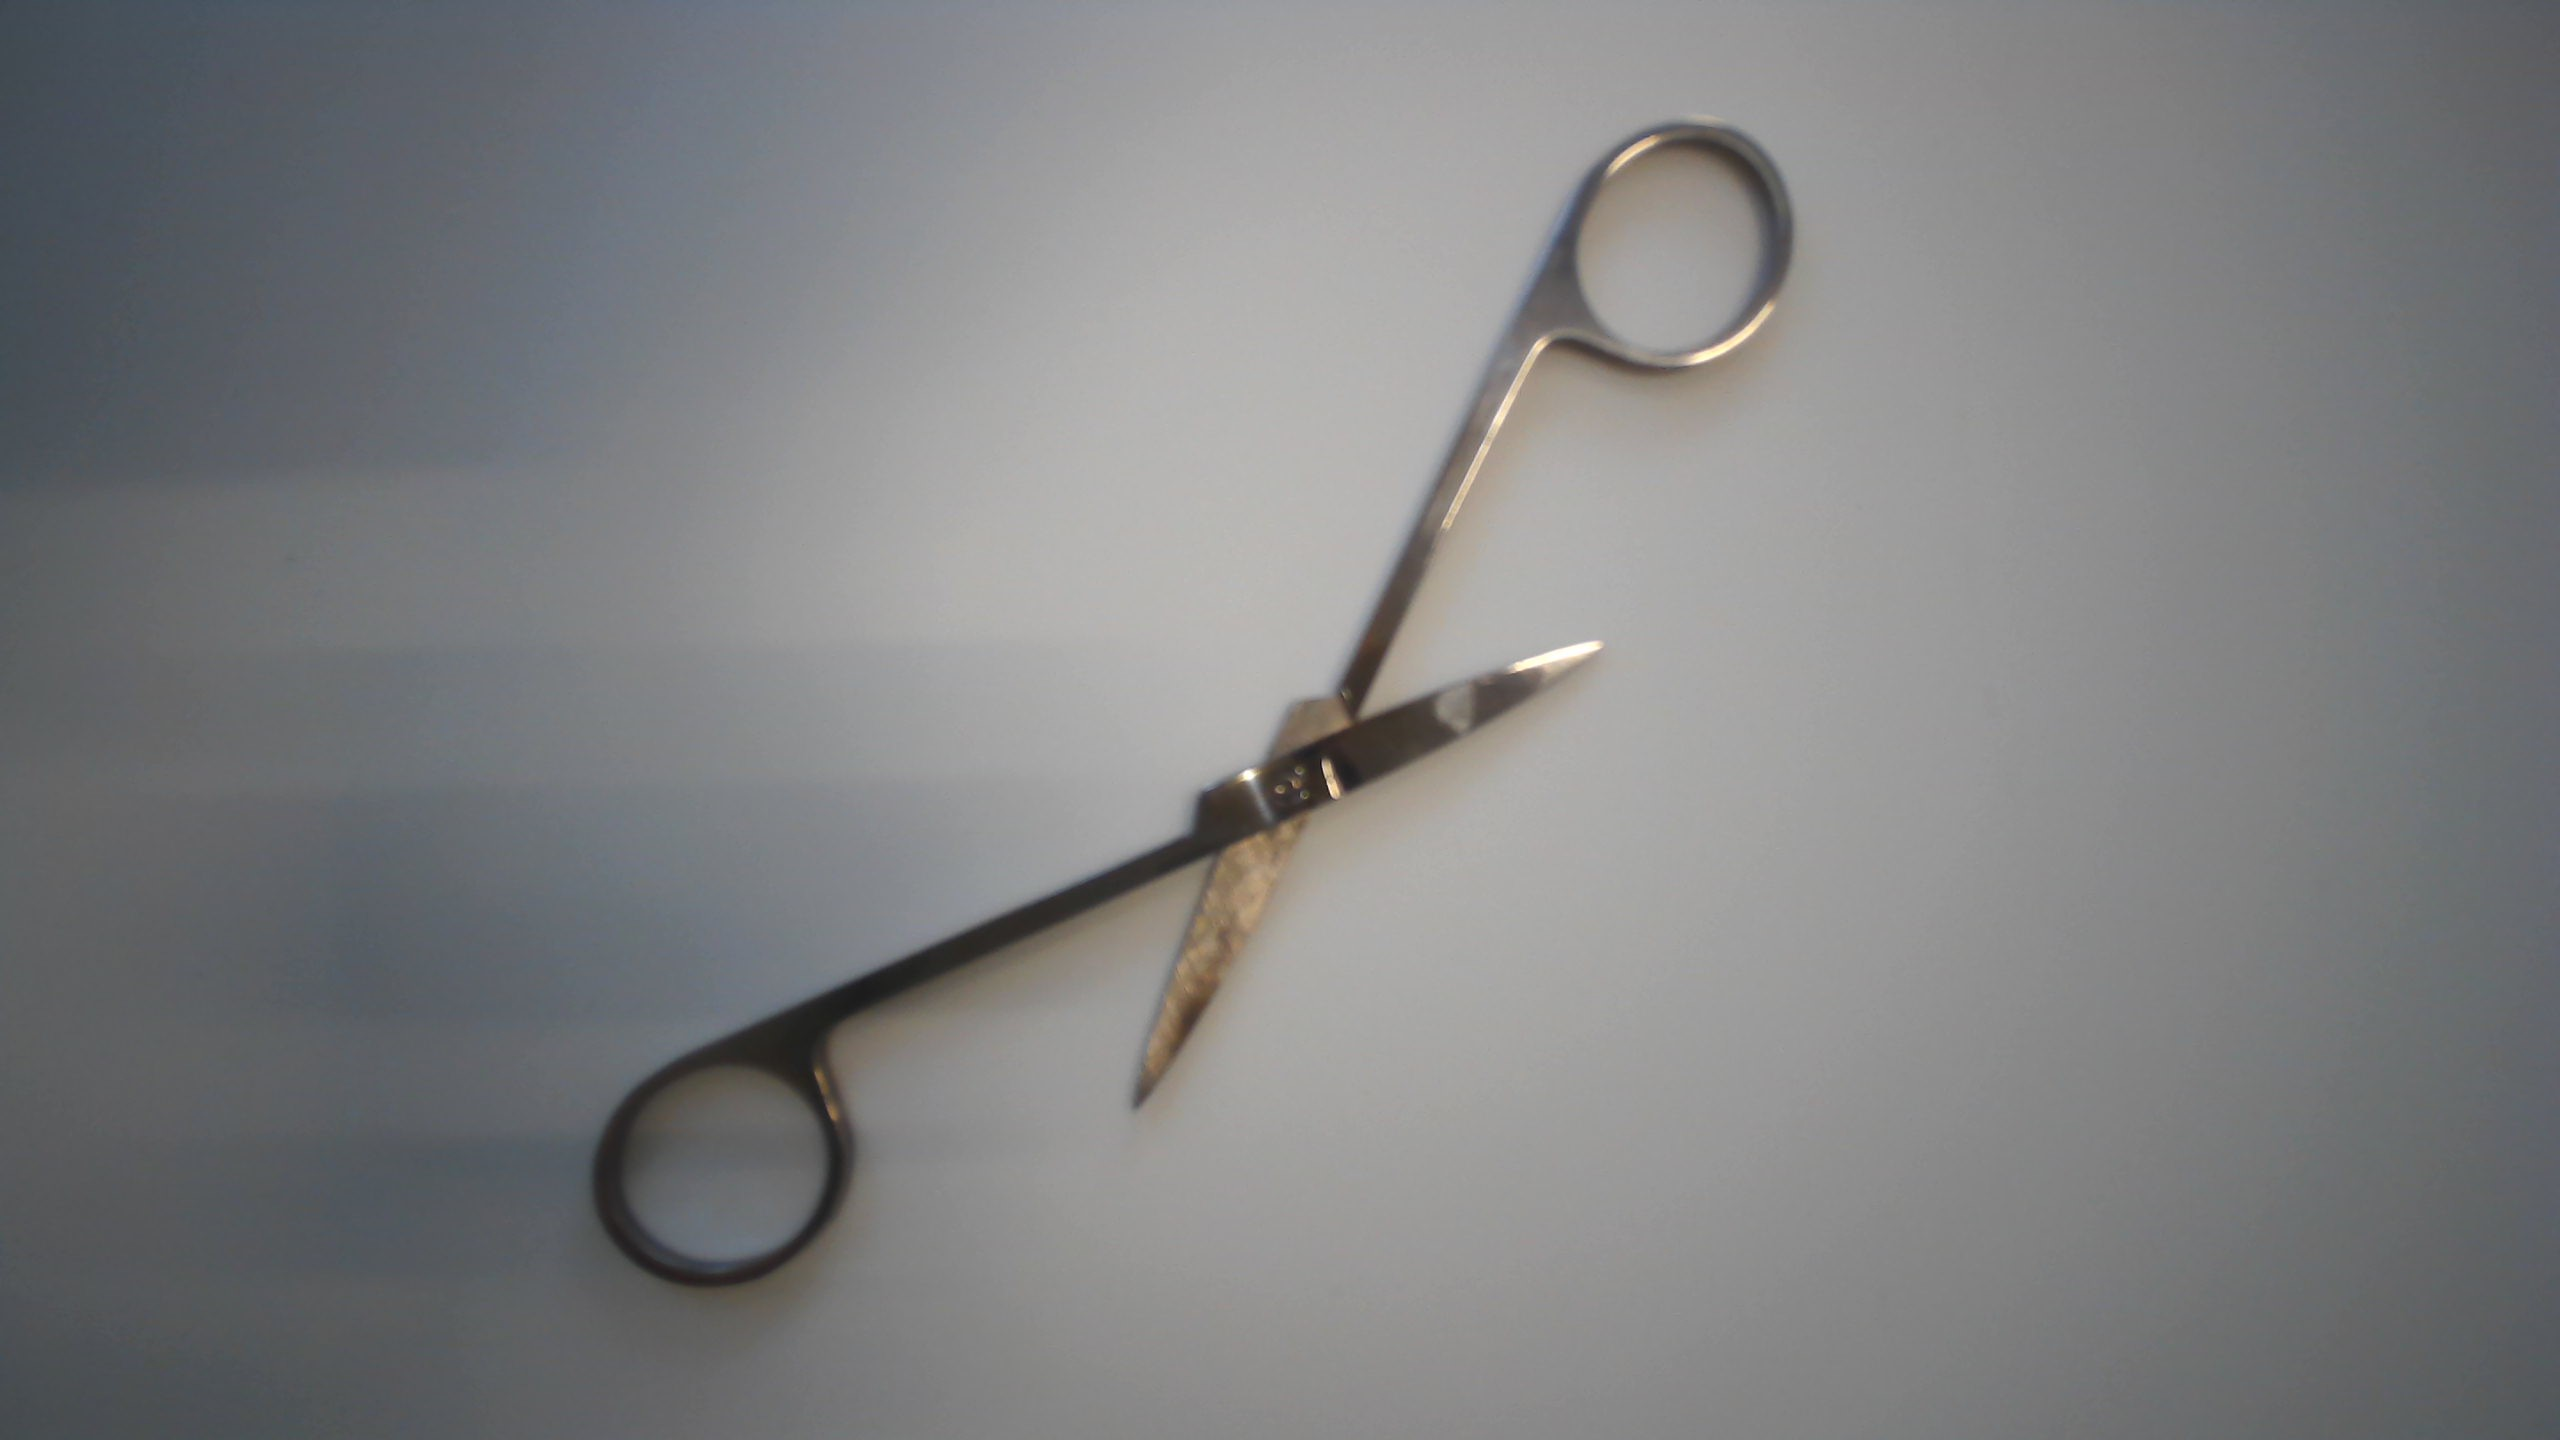Tissues: (1433, 673, 1489, 749)
